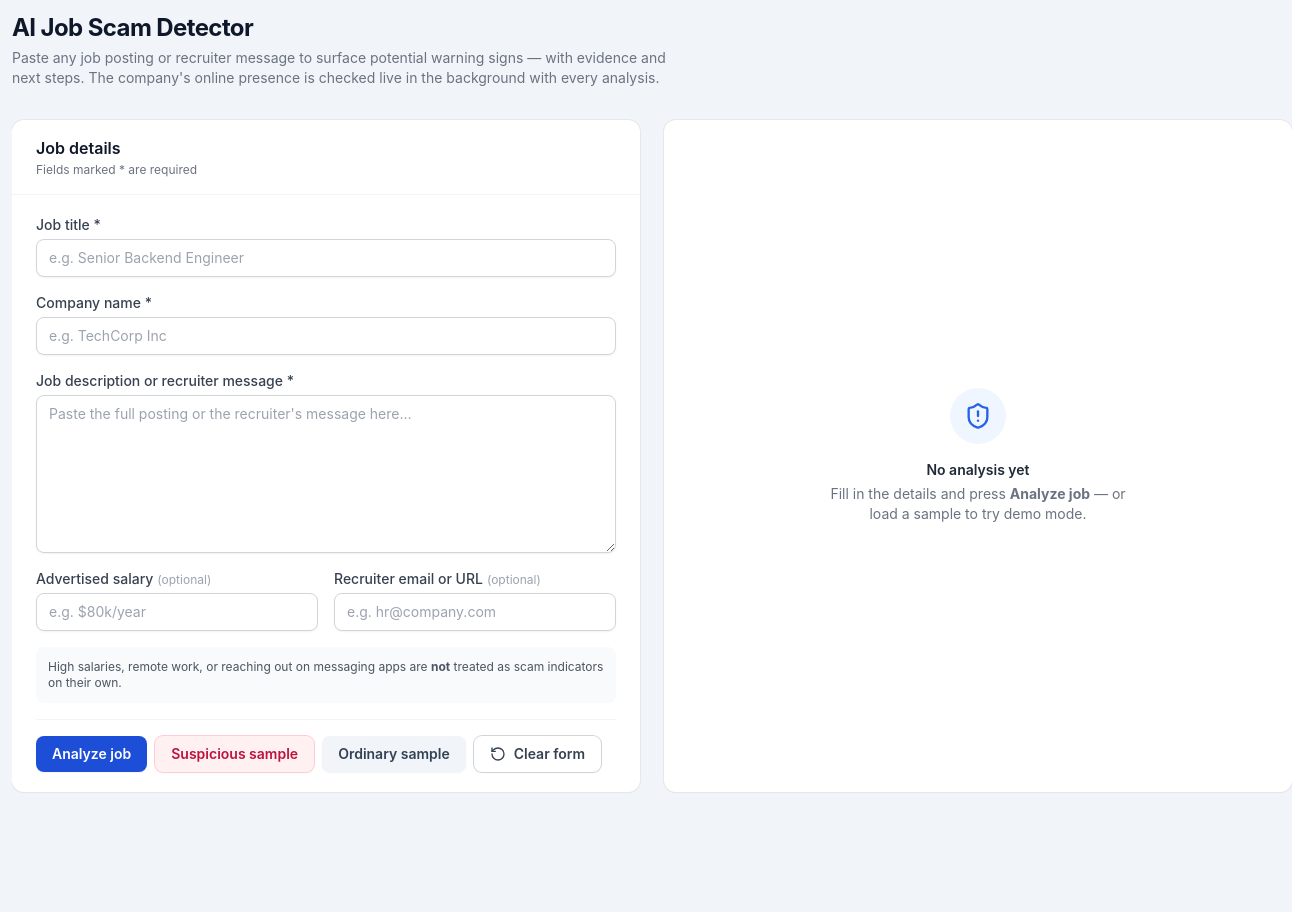
it: JobAnalyzer › does not render the company panel when the API omitted it (tests still pass)
Click the button "Ordinary sample" at (394, 754), box [322,736,466,772]
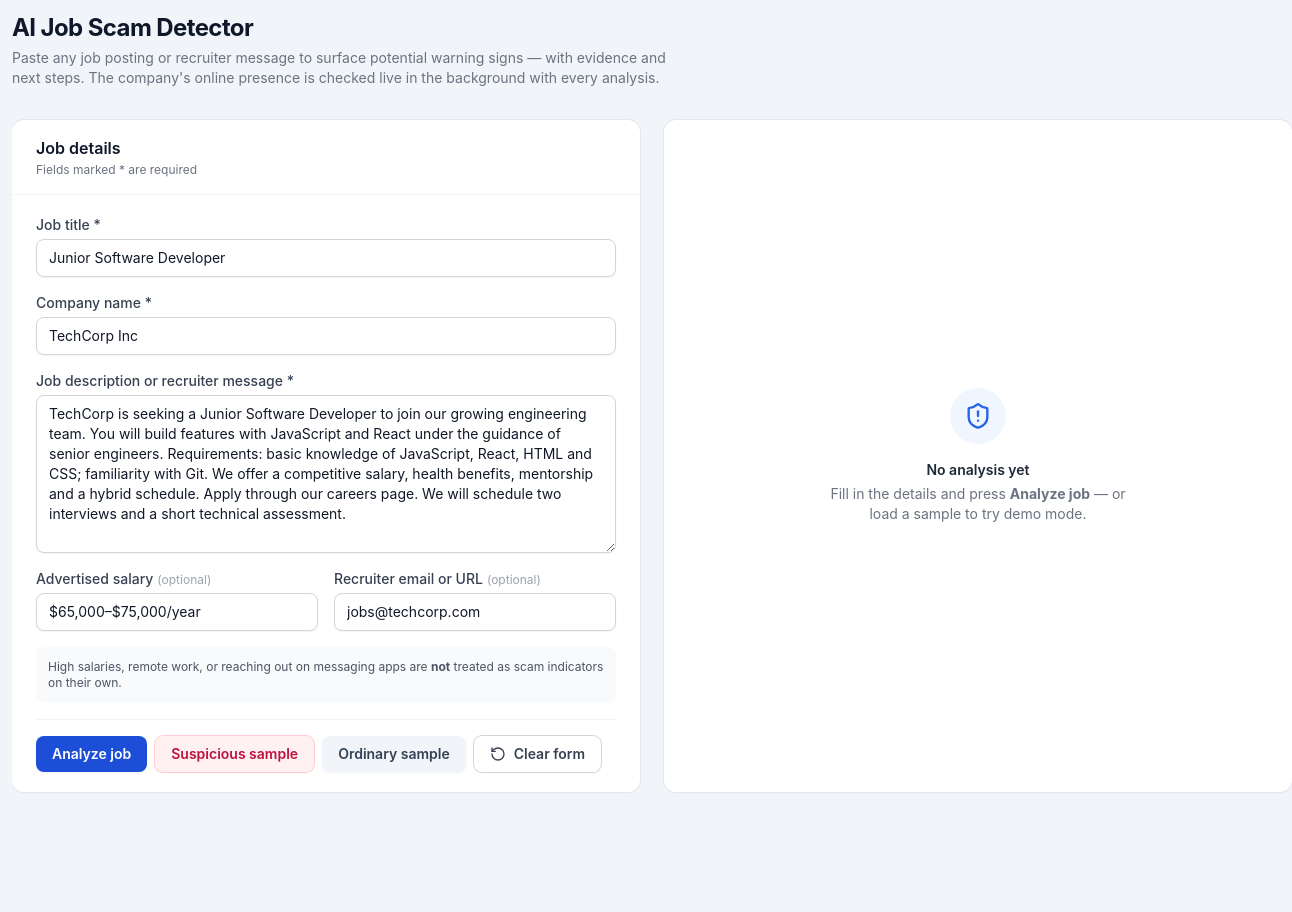
Click the button "Analyze job" at (92, 754), box [36,736,147,772]
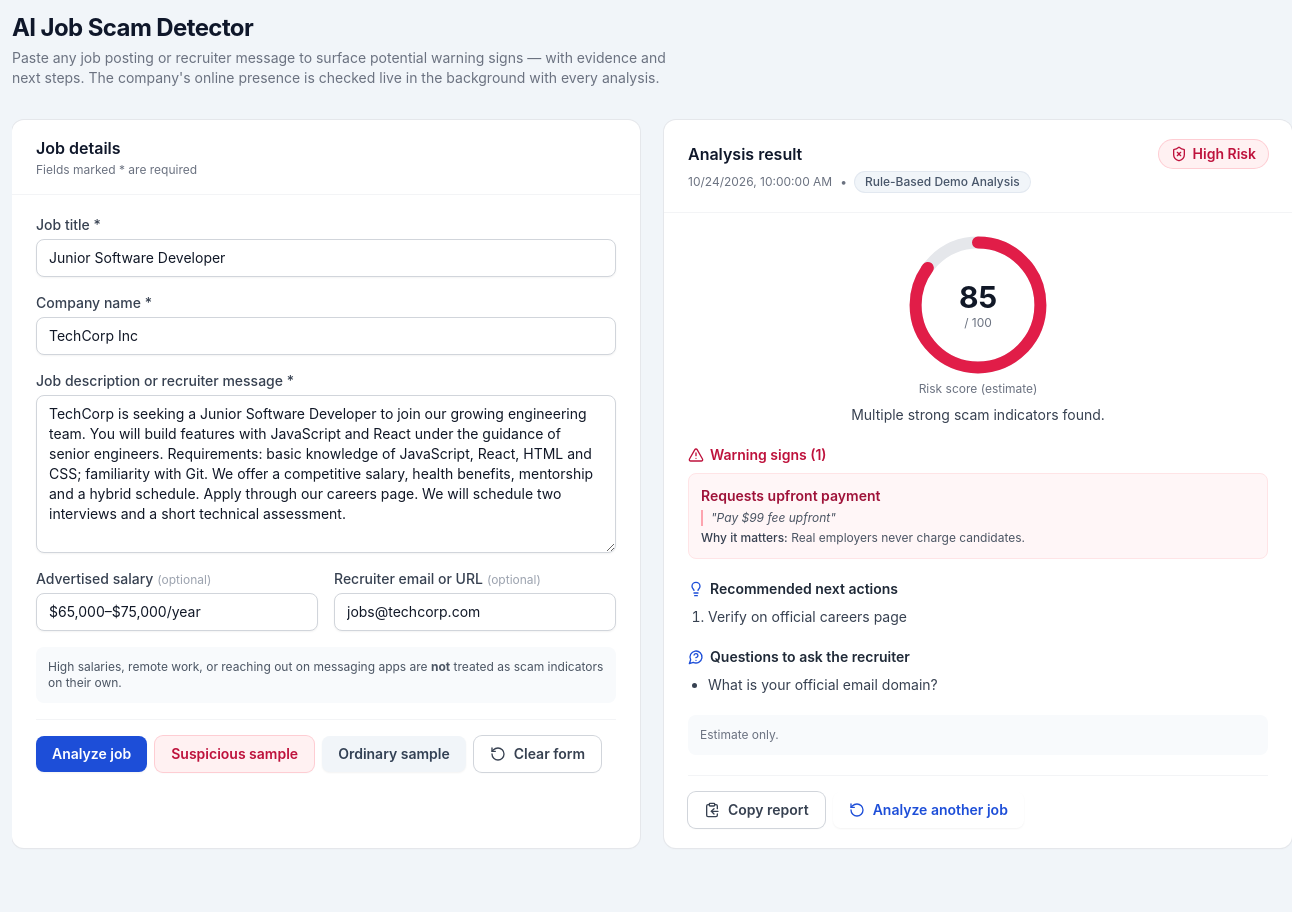
Result: the text "High Risk" is shown at [1159,140,1268,168]
